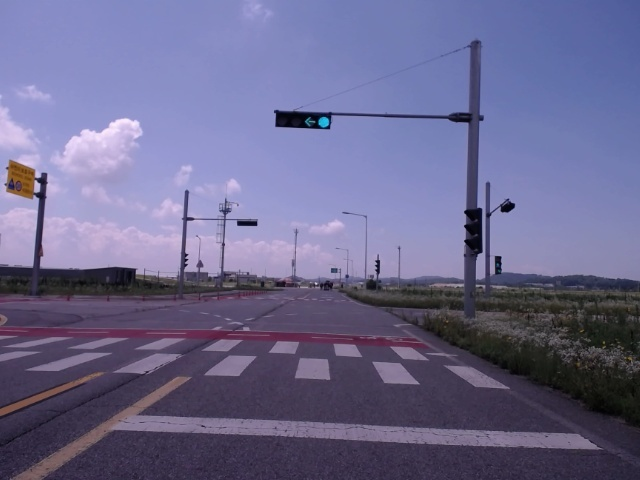all_green_4: (277, 110, 332, 131)
